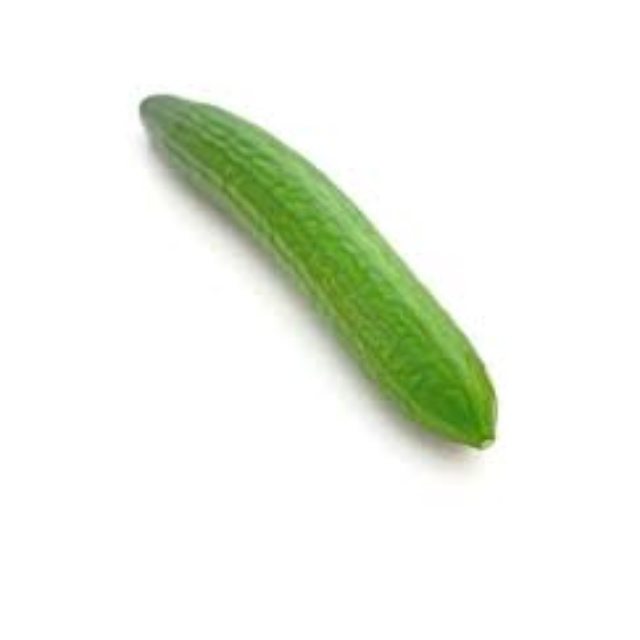dua_leo: (136, 88, 503, 458)
